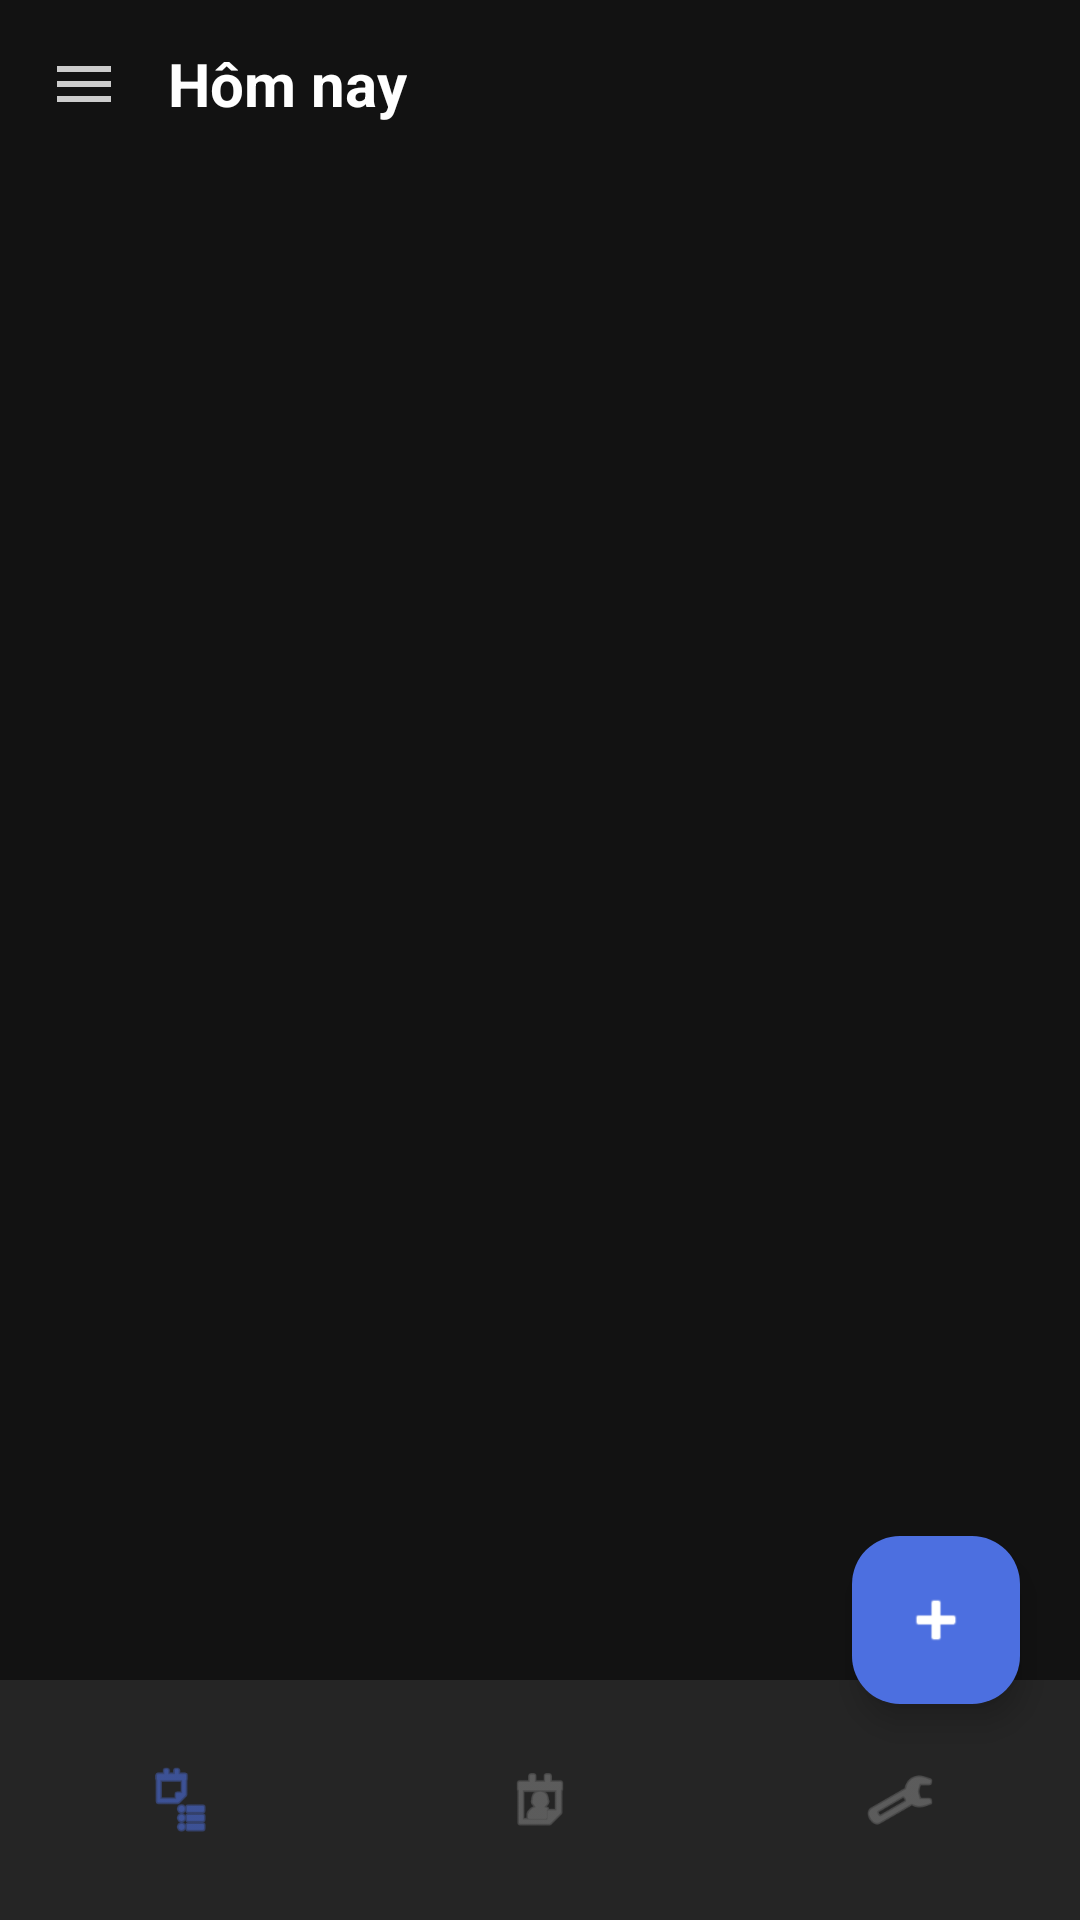

Screen size 1080x1920. Icon name, then its center in pixels as (x,y):
Thêm công việc: (936,1620)
